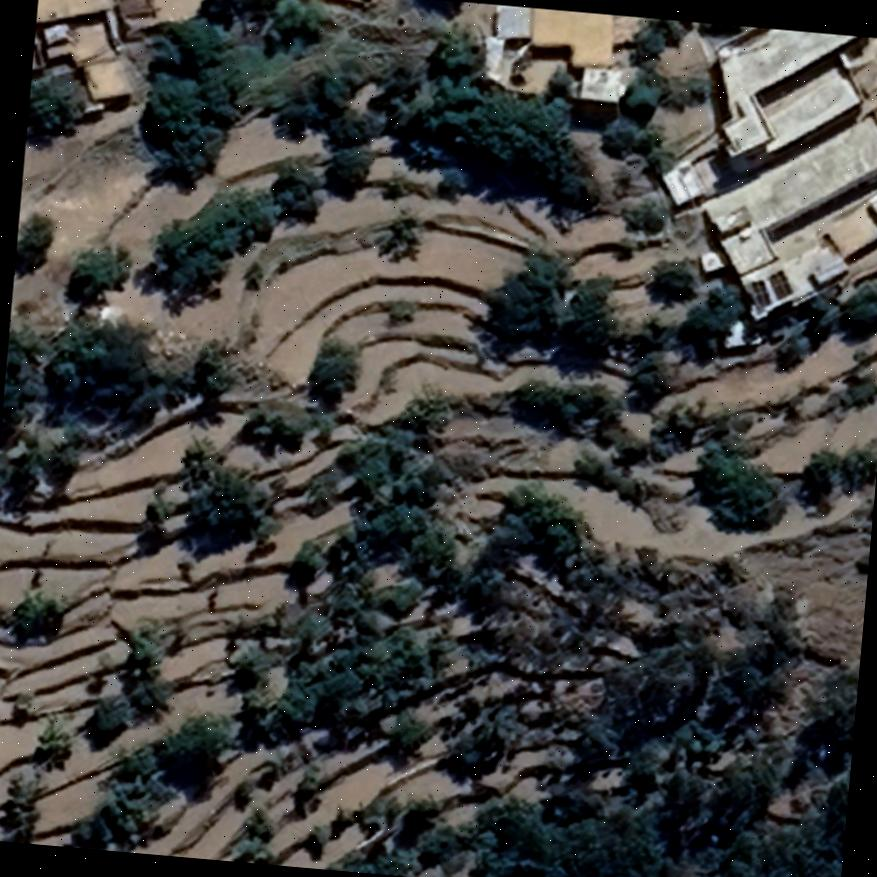Solarpanel: (764, 265, 792, 301), (748, 277, 769, 309)
